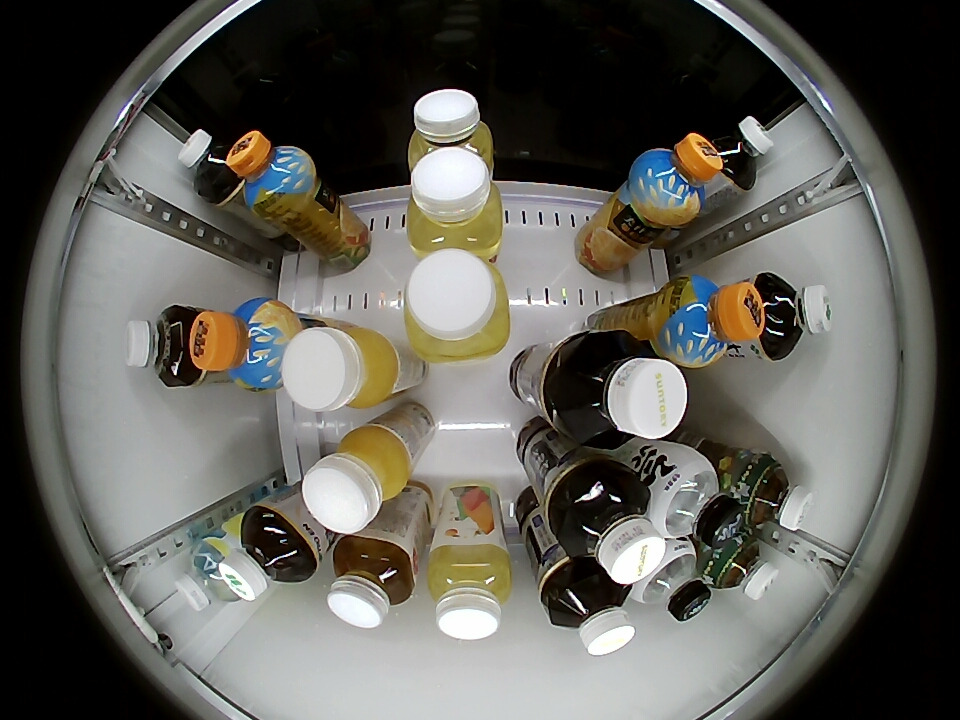chapai: (326, 534, 416, 628)
chapai2: (402, 249, 511, 363), (405, 148, 504, 260), (427, 542, 512, 640), (408, 89, 495, 172)
damaicha: (220, 505, 317, 600), (756, 274, 833, 361), (706, 116, 773, 191)
guolicheng: (189, 299, 298, 391), (659, 276, 764, 368), (631, 133, 722, 225), (228, 130, 317, 219)
moliqingcha: (734, 454, 815, 531), (706, 528, 778, 600)
nfc: (301, 425, 412, 533), (283, 320, 399, 412)
qinningshui: (175, 538, 241, 611)
wulongcha: (554, 334, 687, 446), (560, 475, 666, 585), (547, 572, 635, 656), (124, 305, 198, 388), (179, 129, 239, 200)
yuanqishui: (647, 453, 743, 545), (630, 541, 711, 621)
